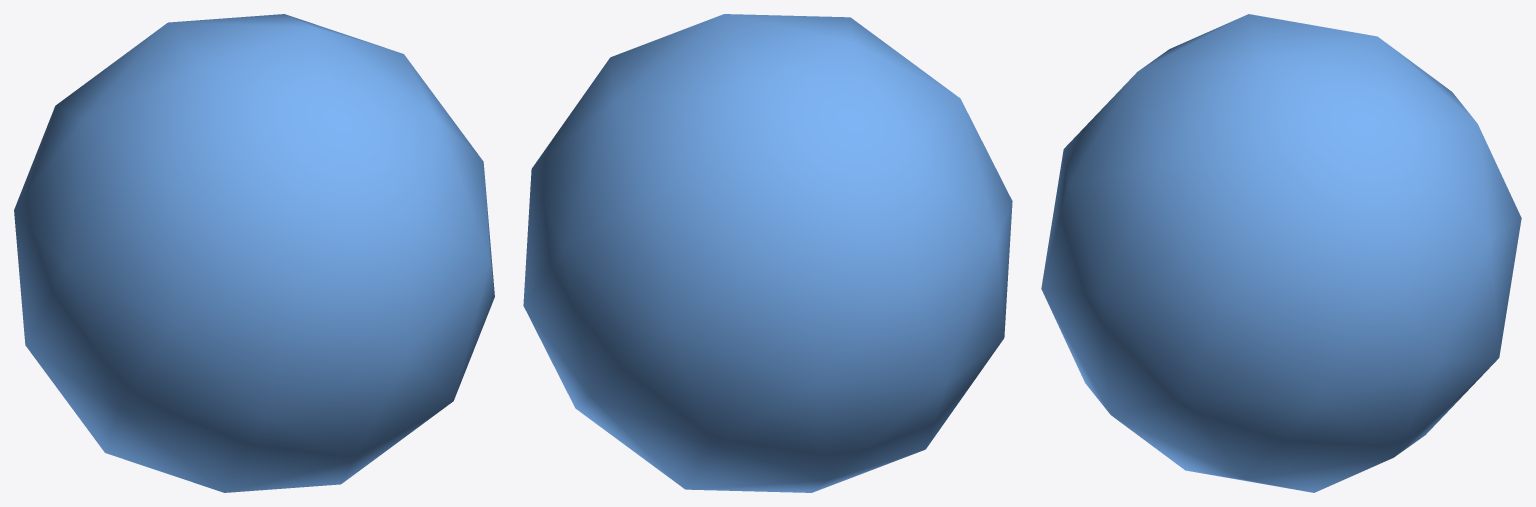
Rendered from apap_N_amide.glb.
The picture shows the model from 3 angles, left to right: view 1: azimuth 30°, elevation 25°; view 2: azimuth 150°, elevation 25°; view 3: azimuth 270°, elevation 25°; orthographic projection. The views are drawn at different scales.
Parts seen in each view (by area): view 1: node-geom40.001; view 2: node-geom40.001; view 3: node-geom40.001.
Boxes of the visible parts, x1,y1,x2,y2 form: node-geom40.001: (14, 14, 494, 492); node-geom40.001: (523, 14, 1012, 492); node-geom40.001: (1041, 14, 1521, 492).
Size of the model in its own units: 0.6561 by 0.6612 by 0.6725.
